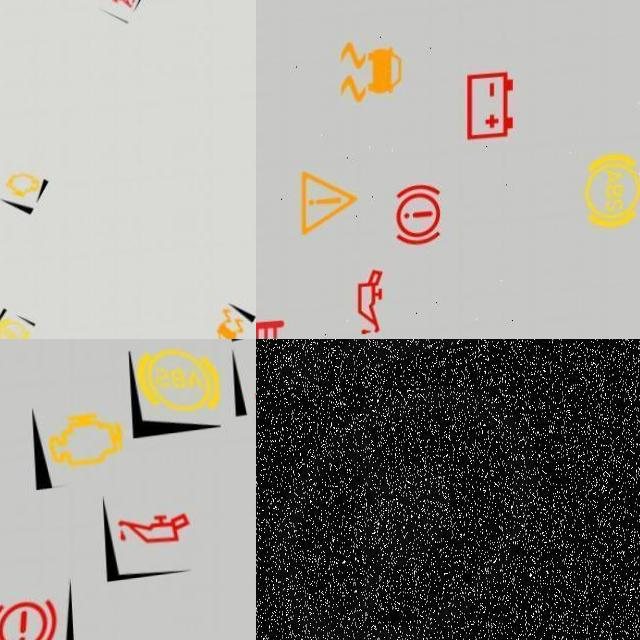Electronic Power Steering: (256, 339, 612, 640)
